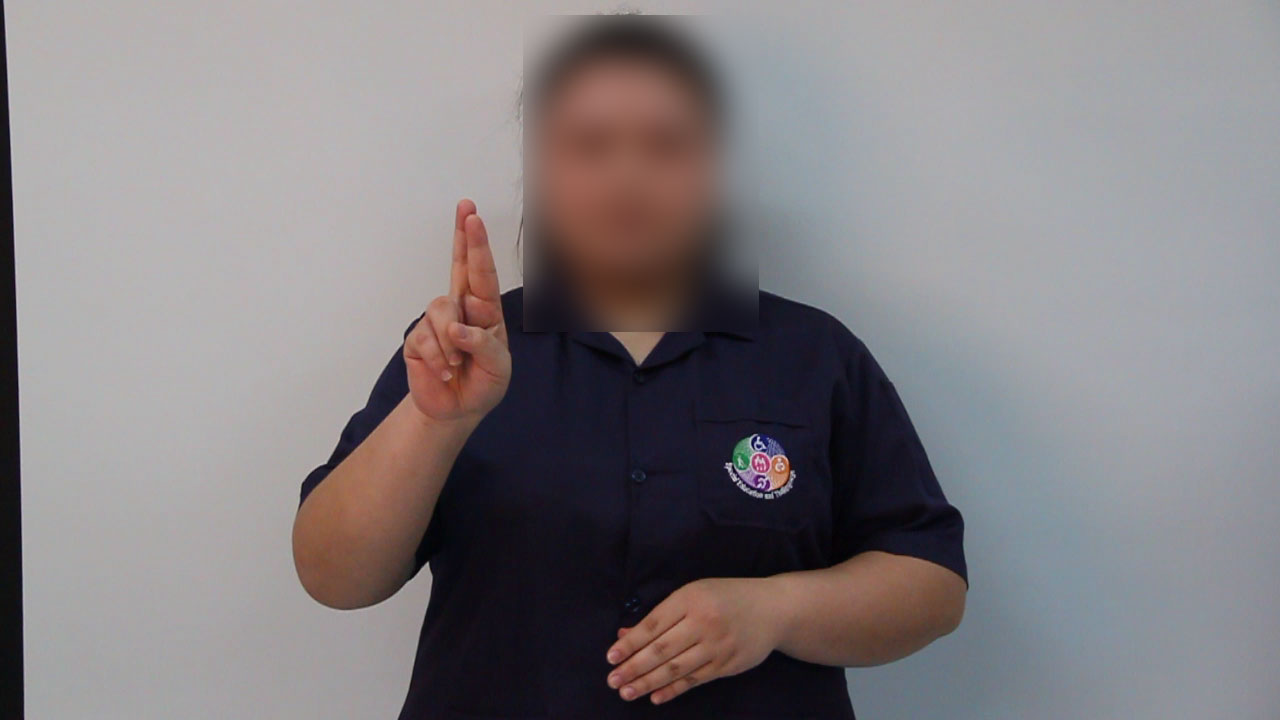rao: (357, 192, 524, 420)
